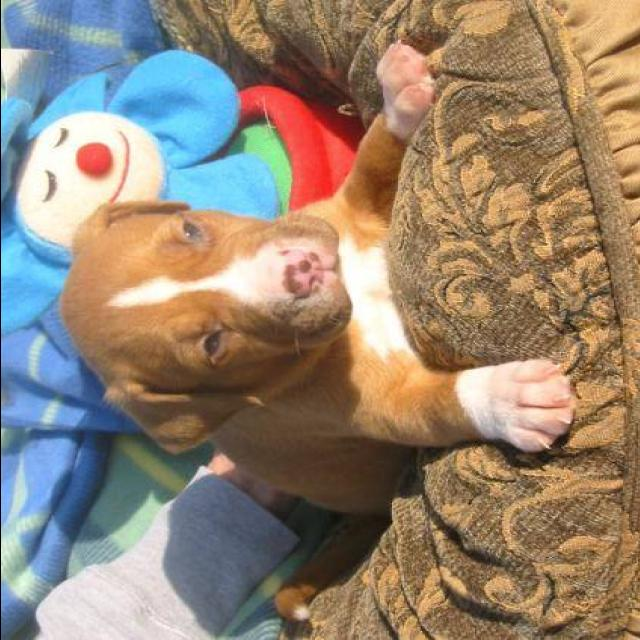dog: (39, 38, 593, 594)
